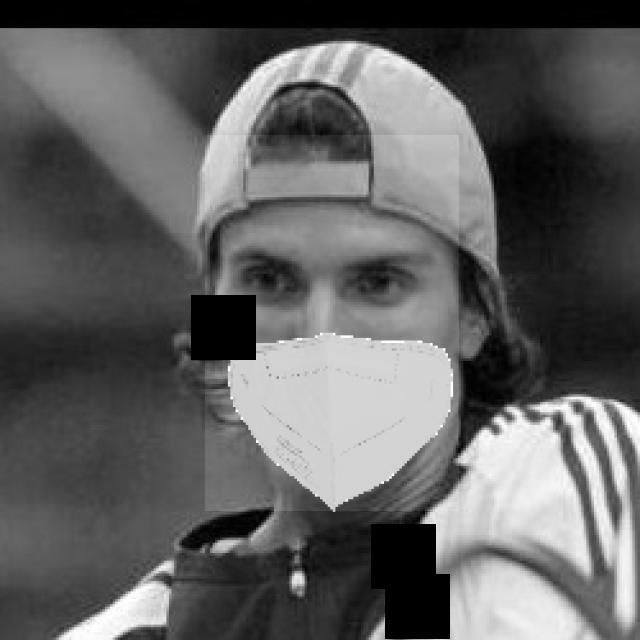kn95: (205, 135, 459, 511)
